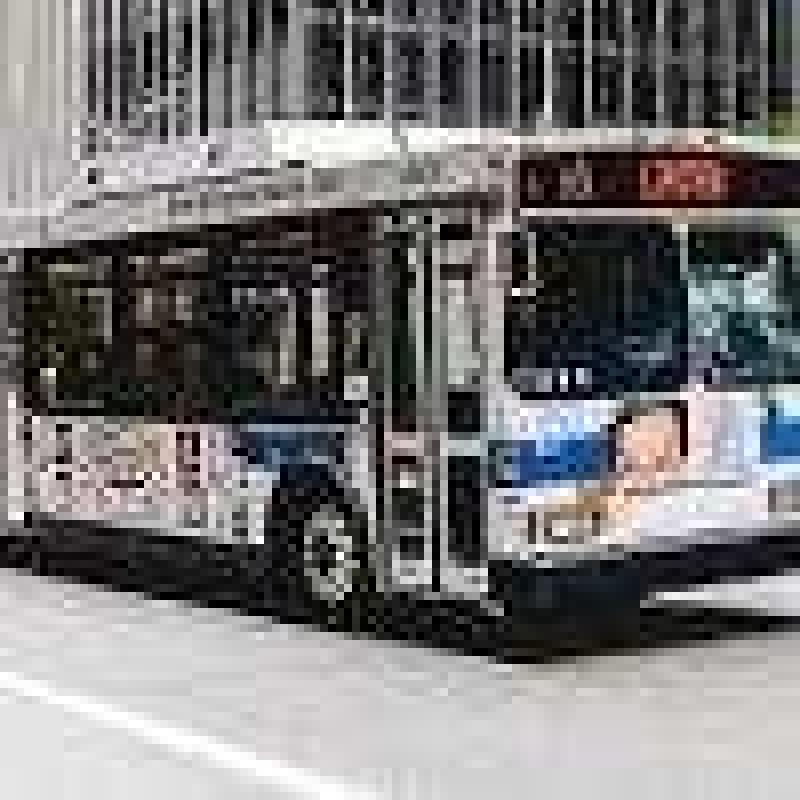bus: (42, 115, 800, 580)
